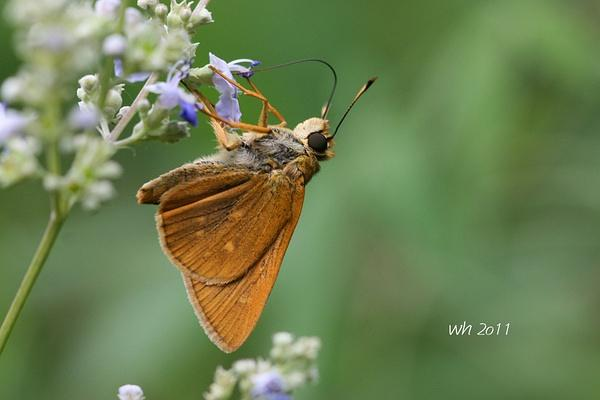Hesperiidae: (134, 57, 380, 354)
